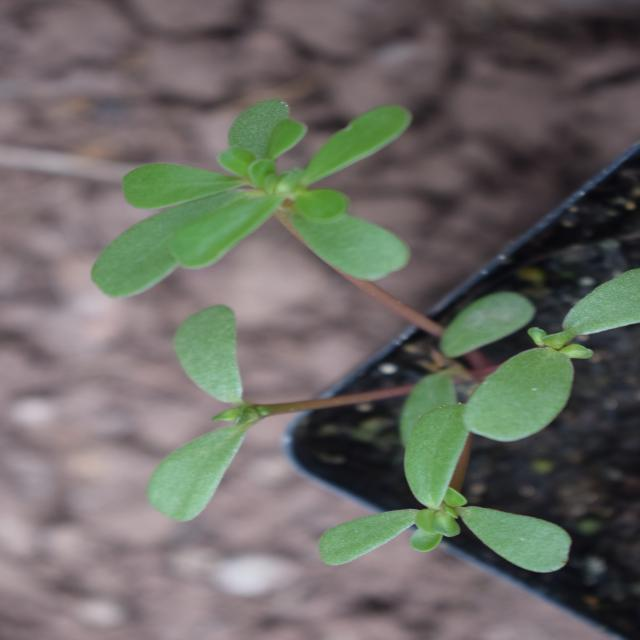purslane: (77, 105, 550, 628)
